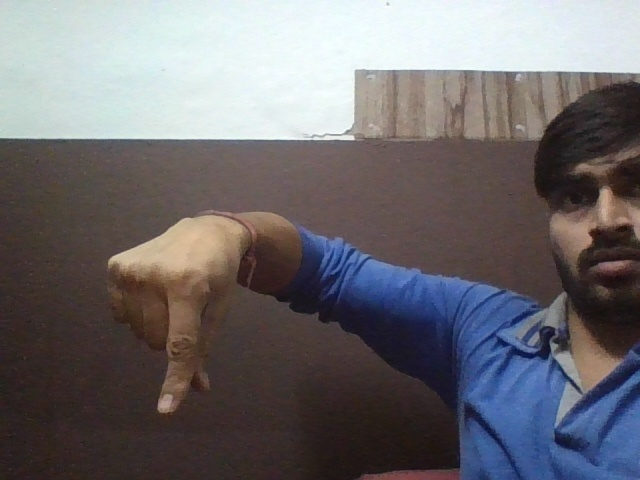Q: (91, 221, 240, 412)
